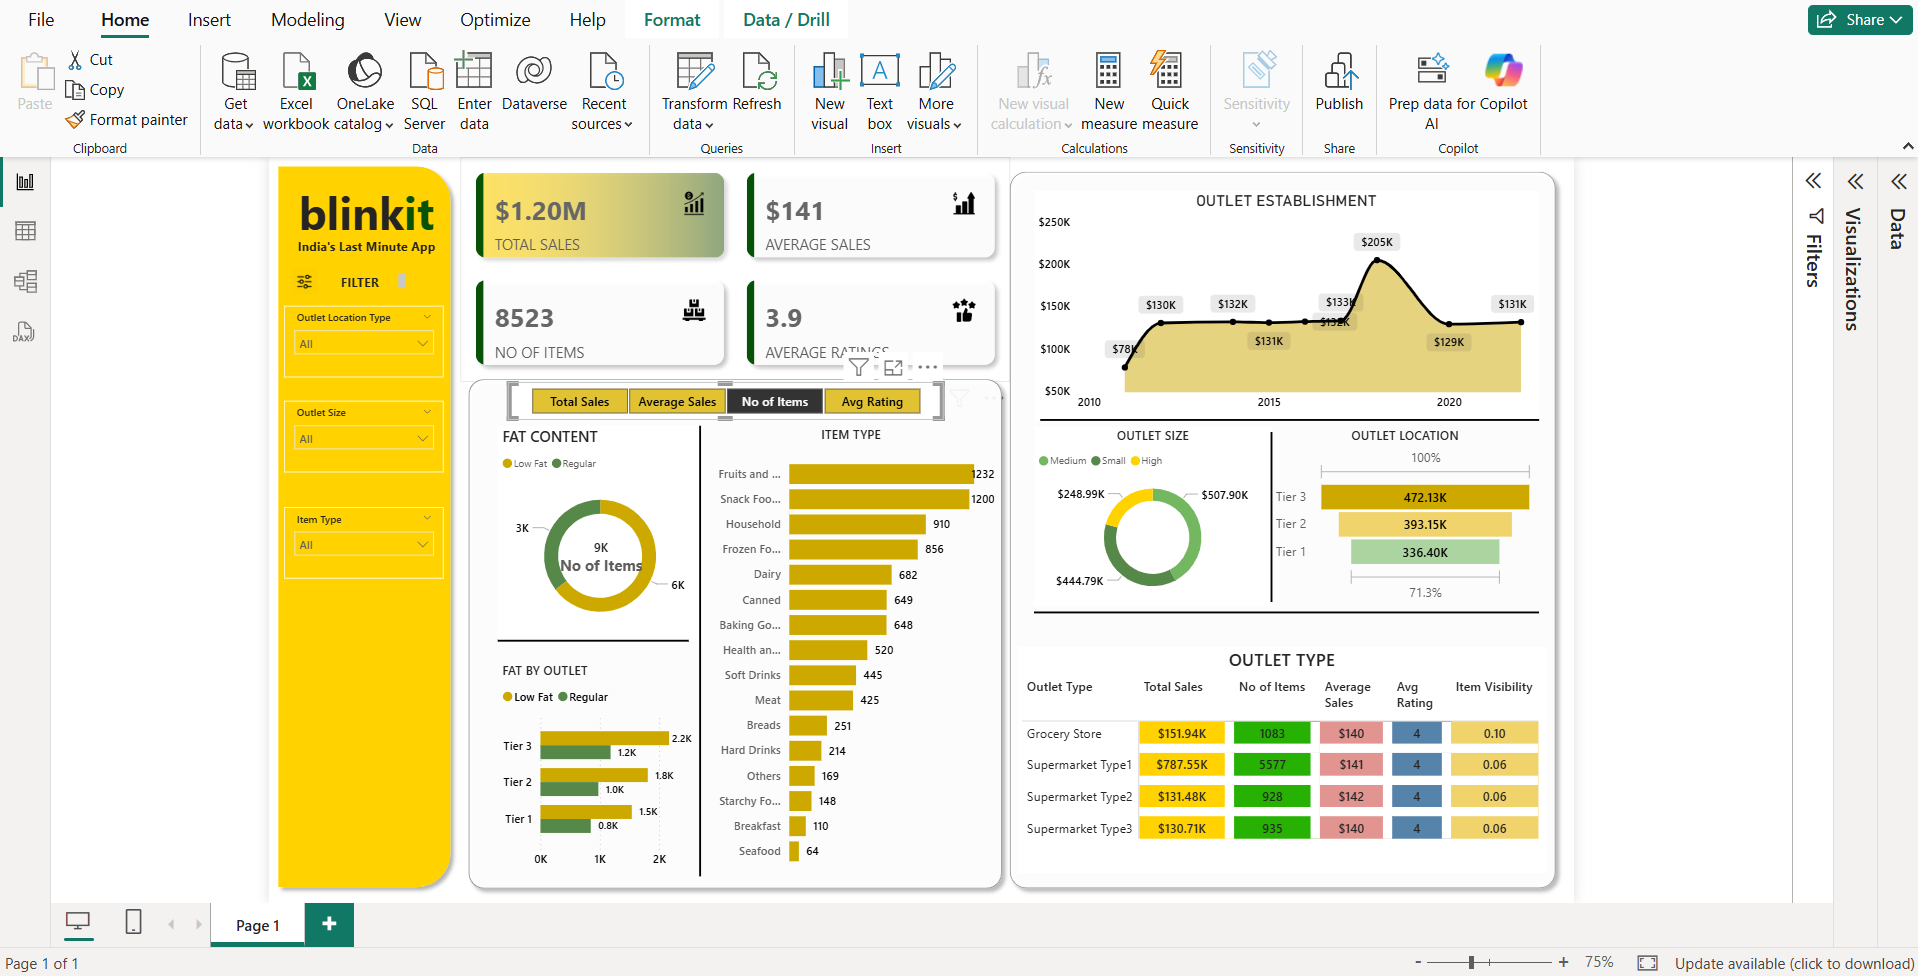

Layout of this report page (visuals, bound fields, positions):
{"tool":"powerbi","page":{"name":"Page 1","canvas":[1400,800],"ordinal":0},"visuals":[{"type":"shape","box":[0,0,205,793.3],"z":0},{"type":"textbox","box":[18.3,21.7,171.7,75],"z":1000},{"type":"textbox","box":[18.3,81.7,171.7,30],"z":2000},{"type":"cardVisual","fields":{"Data":["BlinkIT Grocery Data.Total Sales","BlinkIT Grocery Data.Average Sales","BlinkIT Grocery Data.No of Items","BlinkIT Grocery Data.Avg Rating"]},"box":[205,0,590,241.7],"z":3000},{"type":"shape","box":[205.1,229.2,589.8,564.3],"z":4000},{"type":"donutChart","title":"FAT CONTENT","fields":{"Y":["BlinkIT Grocery Data.Total Sales"],"Category":["BlinkIT Grocery Data.Item Fat Content"]},"box":[245,288.3,220,230],"z":5000},{"type":"slicer","fields":{"Values":["Metrics.Metrics"]},"box":[256.7,241.7,466.7,40],"z":6000},{"type":"cardVisual","fields":{"Data":["BlinkIT Grocery Data.Total Sales"]},"box":[291.7,375,128.3,106.7],"z":7000},{"type":"clusteredBarChart","title":"FAT BY OUTLET","fields":{"Y":["BlinkIT Grocery Data.Total Sales"],"Category":["BlinkIT Grocery Data.Outlet Location Type"],"Series":["BlinkIT Grocery Data.Item Fat Content"]},"box":[245,541.7,220,230],"z":8000},{"type":"shape","box":[245,511.7,205,13.3],"z":9000},{"type":"shape","box":[373.3,288.3,176.7,483.3],"z":10000},{"type":"barChart","title":"ITEM TYPE","fields":{"Y":["BlinkIT Grocery Data.Total Sales"],"Category":["BlinkIT Grocery Data.Item Type"]},"box":[465,288.3,318.3,483.3],"z":11000},{"type":"shape","box":[785,6.7,603.3,786.7],"z":12000},{"type":"lineChart","title":"OUTLET ESTABLISHMENT","fields":{"Y":["BlinkIT Grocery Data.Total Sales"],"Category":["BlinkIT Grocery Data.Outlet Establishment Year"]},"box":[820.4,36.2,541.6,245.3],"z":13000},{"type":"donutChart","title":"OUTLET SIZE","fields":{"Y":["BlinkIT Grocery Data.Total Sales"],"Category":["BlinkIT Grocery Data.Outlet Size"]},"box":[820,290,255,191.7],"z":14000},{"type":"shape","box":[826.7,245,535,73.3],"z":15000},{"type":"funnel","title":"OUTLET LOCATION","fields":{"Y":["Sum(BlinkIT Grocery Data.Sales)"],"Category":["BlinkIT Grocery Data.Outlet Location Type"]},"box":[1075,290,286.7,191.7],"z":16000},{"type":"shape","box":[924.9,294.9,300.3,182.3],"z":17000},{"type":"shape","box":[820,451.7,541.7,73.3],"z":18000},{"type":"pivotTable","title":"OUTLET TYPE","fields":{"Rows":["BlinkIT Grocery Data.Outlet Type"],"Values":["BlinkIT Grocery Data.Total Sales","BlinkIT Grocery Data.No of Items","BlinkIT Grocery Data.Average Sales","BlinkIT Grocery Data.Avg Rating","Avg(BlinkIT Grocery Data.Item Visibility)"]},"box":[803.3,525,566.7,243.3],"z":19000},{"type":"slicer","fields":{"Values":["BlinkIT Grocery Data.Outlet Location Type"]},"box":[16.1,159.5,171.6,76.4],"z":20000},{"type":"slicer","fields":{"Values":["BlinkIT Grocery Data.Outlet Size"]},"box":[16.1,261.4,171.6,76.4],"z":21000},{"type":"slicer","fields":{"Values":["BlinkIT Grocery Data.Item Type"]},"box":[16.1,375.3,171.6,76.4],"z":22000},{"type":"textbox","box":[52.3,120.6,99.2,30.8],"z":22001},{"type":"image","box":[18.8,107.2,38.9,52.3],"z":22002}]}

Visuals, with their boxes on the page's 1400x800 design canvas (x1, y1, x2, y2). These are canvas units, not pixel positions in the 1918x976 screenshot, which may show the page scaled, cropped or inside an application window:
shape: x1=0, y1=0, x2=205, y2=793
textbox: x1=18, y1=22, x2=190, y2=97
textbox: x1=18, y1=82, x2=190, y2=112
cardVisual - BlinkIT Grocery Data.Total Sales x BlinkIT Grocery Data.Average Sales: x1=205, y1=0, x2=795, y2=242
shape: x1=205, y1=229, x2=795, y2=794
"FAT CONTENT" donutChart: x1=245, y1=288, x2=465, y2=518
slicer - Metrics.Metrics: x1=257, y1=242, x2=723, y2=282
cardVisual - BlinkIT Grocery Data.Total Sales: x1=292, y1=375, x2=420, y2=482
"FAT BY OUTLET" clusteredBarChart: x1=245, y1=542, x2=465, y2=772
shape: x1=245, y1=512, x2=450, y2=525
shape: x1=373, y1=288, x2=550, y2=772
"ITEM TYPE" barChart: x1=465, y1=288, x2=783, y2=772
shape: x1=785, y1=7, x2=1388, y2=793
"OUTLET ESTABLISHMENT" lineChart: x1=820, y1=36, x2=1362, y2=282
"OUTLET SIZE" donutChart: x1=820, y1=290, x2=1075, y2=482
shape: x1=827, y1=245, x2=1362, y2=318
"OUTLET LOCATION" funnel: x1=1075, y1=290, x2=1362, y2=482
shape: x1=925, y1=295, x2=1225, y2=477
shape: x1=820, y1=452, x2=1362, y2=525
"OUTLET TYPE" pivotTable: x1=803, y1=525, x2=1370, y2=768
slicer - BlinkIT Grocery Data.Outlet Location Type: x1=16, y1=160, x2=188, y2=236
slicer - BlinkIT Grocery Data.Outlet Size: x1=16, y1=261, x2=188, y2=338
slicer - BlinkIT Grocery Data.Item Type: x1=16, y1=375, x2=188, y2=452
textbox: x1=52, y1=121, x2=152, y2=151
image: x1=19, y1=107, x2=58, y2=160
